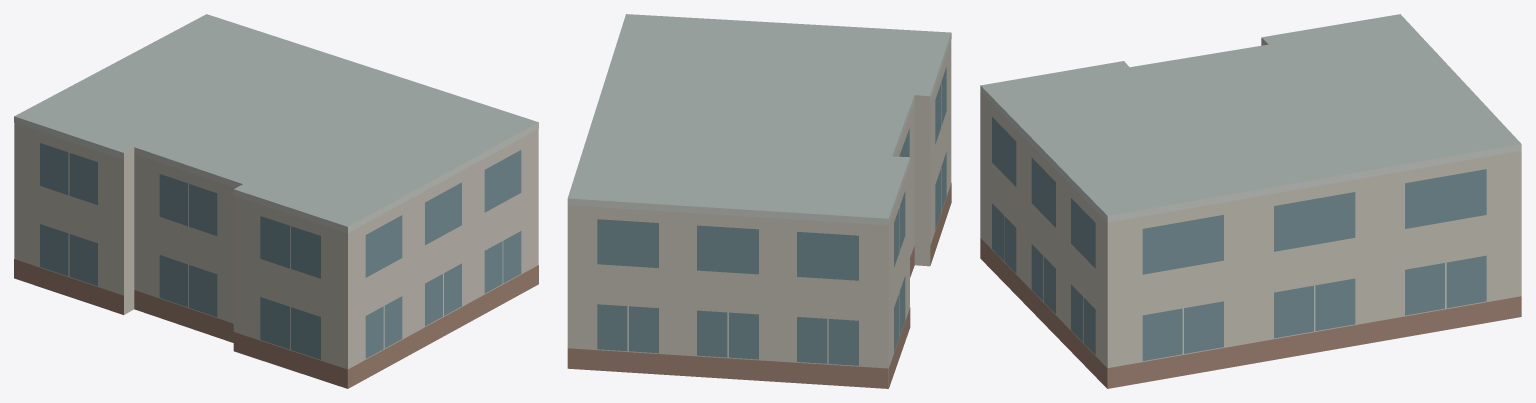
Rendered from survey-upis-32891220.glb.
The picture shows the model from 3 angles, left to right: view 1: azimuth 30°, elevation 25°; view 2: azimuth 150°, elevation 25°; view 3: azimuth 270°, elevation 25°; orthographic projection. The views are drawn at different scales.
Visible parts, largest first — view 1: survey-upis-32891220.tmp; view 2: survey-upis-32891220.tmp; view 3: survey-upis-32891220.tmp.
Boxes of the visible parts, <box> form: survey-upis-32891220.tmp: <box>14,14,538,388</box>; survey-upis-32891220.tmp: <box>567,14,951,388</box>; survey-upis-32891220.tmp: <box>980,14,1521,388</box>.
Size of the model in its own units: 15.27 by 6.1 by 17.3.
